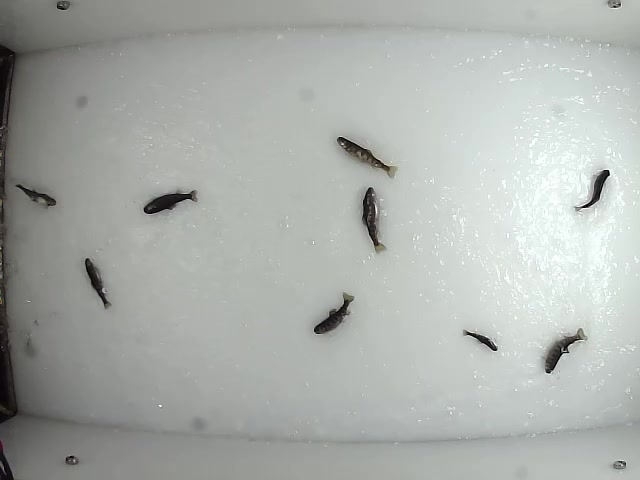fish: (337, 136, 401, 181), (541, 326, 591, 377), (358, 186, 390, 256), (312, 291, 356, 335), (569, 168, 610, 213), (82, 255, 112, 311), (142, 187, 199, 216), (14, 181, 58, 211), (462, 329, 499, 353)
